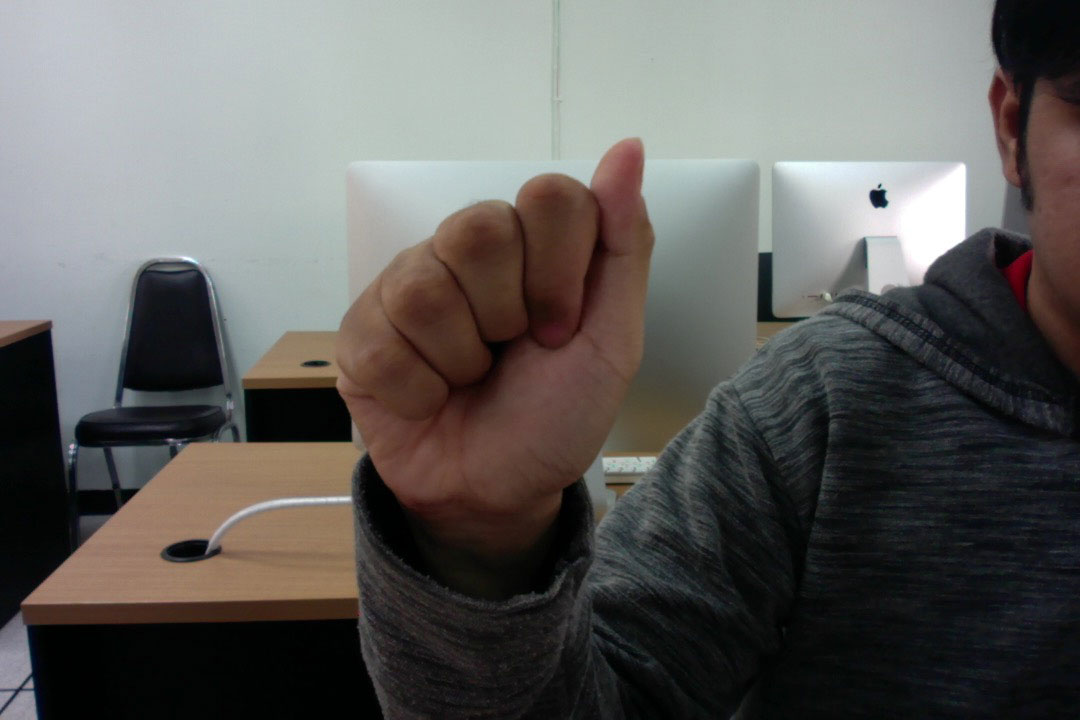or: (307, 126, 669, 517)
